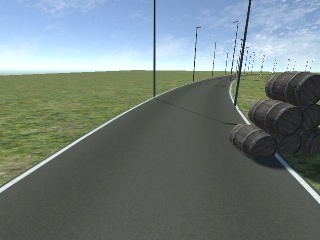Barriels: (230, 66, 320, 176)
